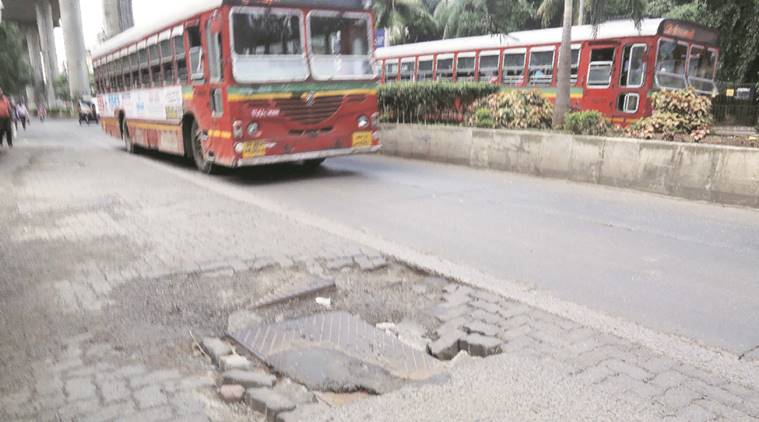pothole: (149, 268, 489, 421)
